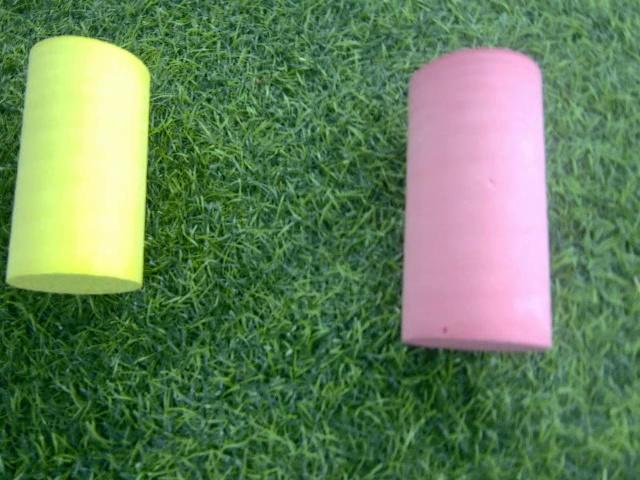red_cylinder: (390, 43, 556, 357)
yellow_cylinder: (5, 31, 157, 295)
